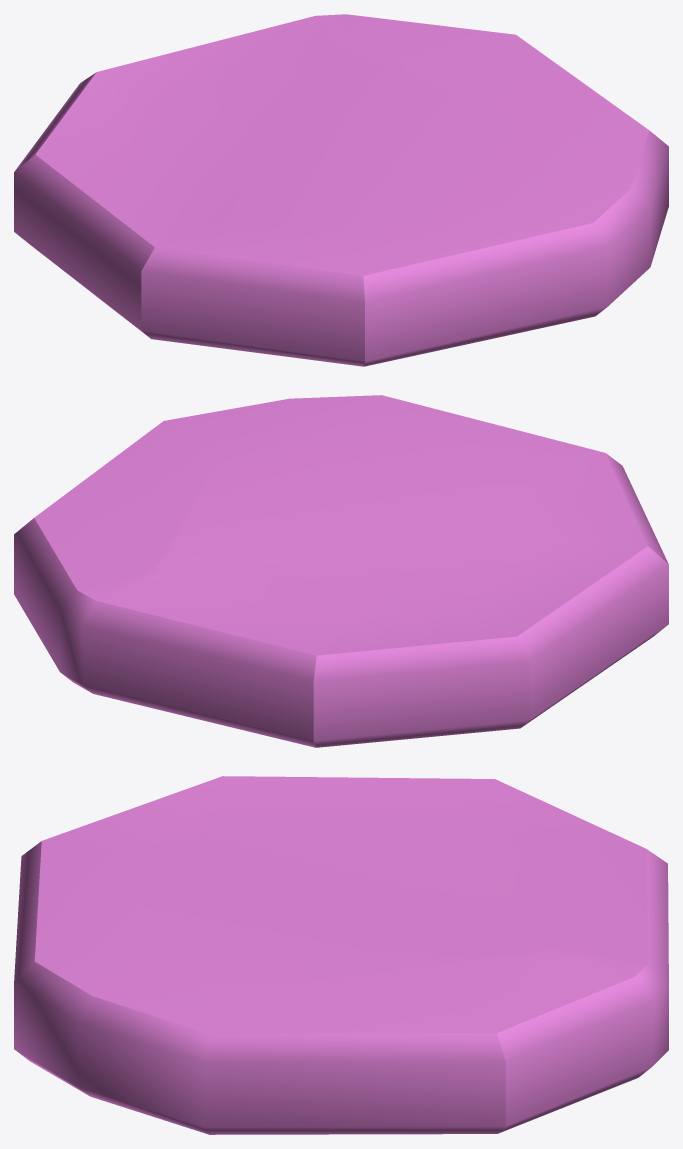
The model's file is prop_rock_small_03.fbx.
3 views of the same model, one above another, from view 1: azimuth 30°, elevation 25°; view 2: azimuth 150°, elevation 25°; view 3: azimuth 270°, elevation 25° (orthographic). The views are drawn at different scales.
Parts seen in each view (by area): view 1: RockSmall3_low; view 2: RockSmall3_low; view 3: RockSmall3_low.
Part boxes in pixels (x1,y1,x2,y2): RockSmall3_low: (14,14,668,366); RockSmall3_low: (14,395,668,747); RockSmall3_low: (14,776,668,1134).
Size of the model in its own units: 2.38 by 0.421 by 2.37.
